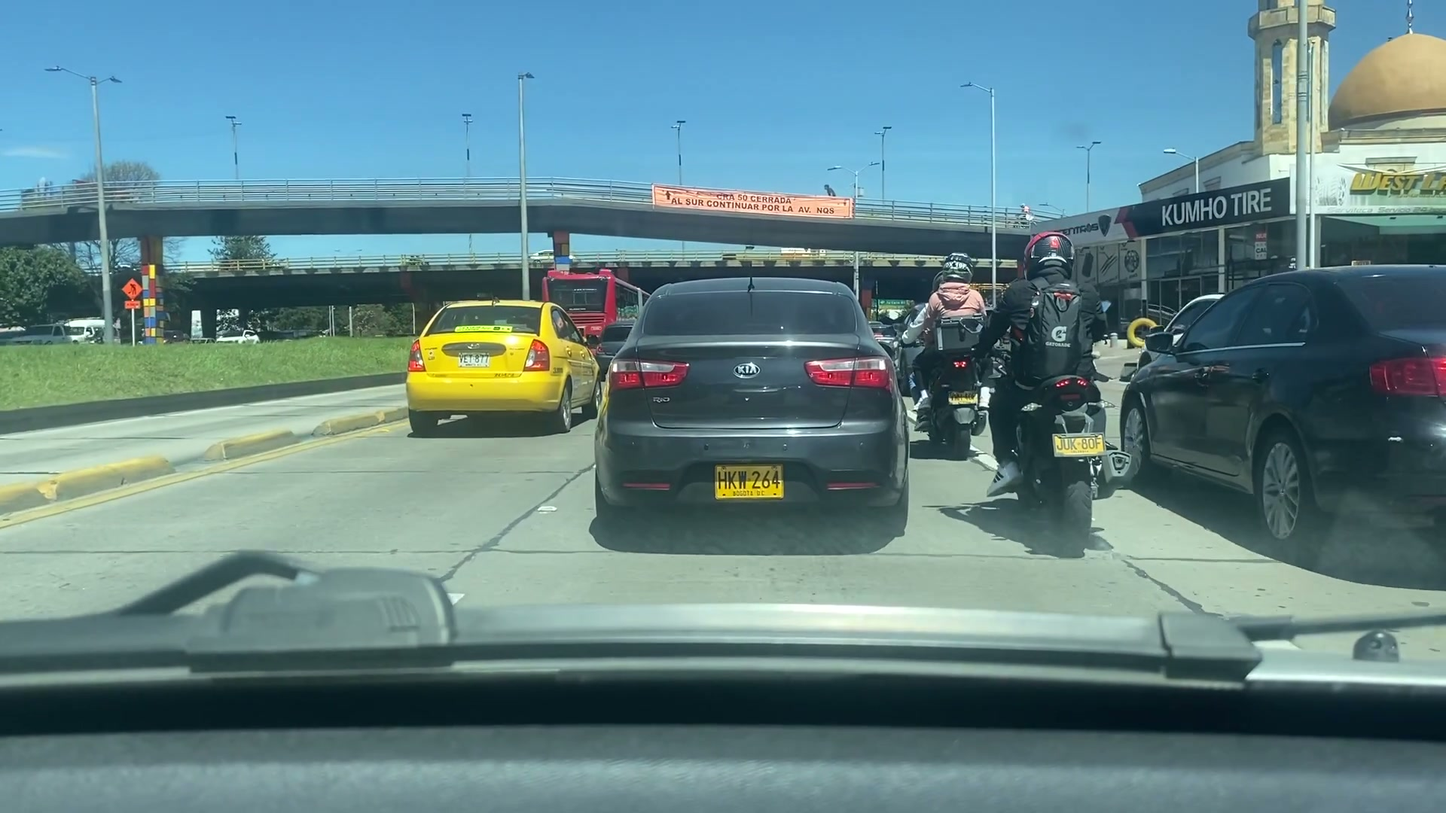bus: (542, 269, 649, 338)
car: (1114, 261, 1446, 560), (596, 273, 909, 527), (408, 297, 601, 437), (598, 320, 641, 368)
motorcycle: (979, 369, 1115, 562), (903, 336, 990, 461)
person: (992, 231, 1117, 505), (916, 252, 992, 411)
